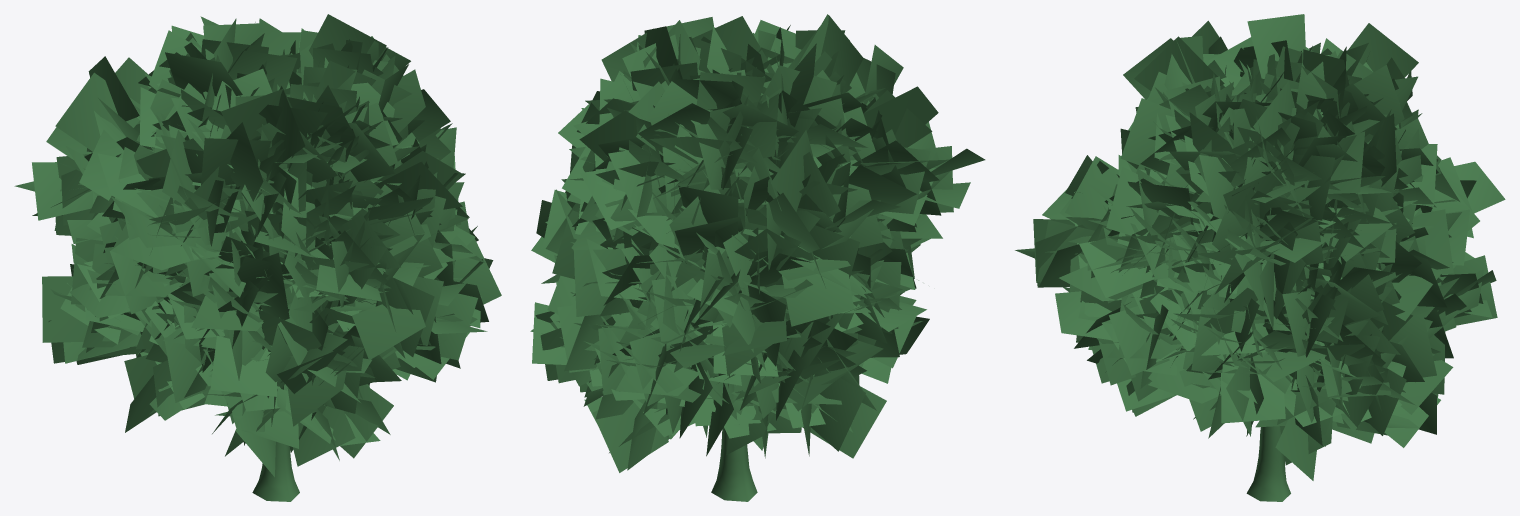
The model's file is Tree_09.fbx.
3 views of the same model, side by side, from view 1: azimuth 30°, elevation 25°; view 2: azimuth 150°, elevation 25°; view 3: azimuth 270°, elevation 25° (orthographic). The views are drawn at different scales.
Visible parts, largest first — view 1: Tree_9_1; view 2: Tree_9_1; view 3: Tree_9_1.
Part boxes in pixels (bbox=[...]): Tree_9_1: bbox=[14, 14, 501, 501]; Tree_9_1: bbox=[530, 14, 985, 501]; Tree_9_1: bbox=[1015, 14, 1505, 501].
Bounding box in the file's own units: 299 × 330 × 334.
